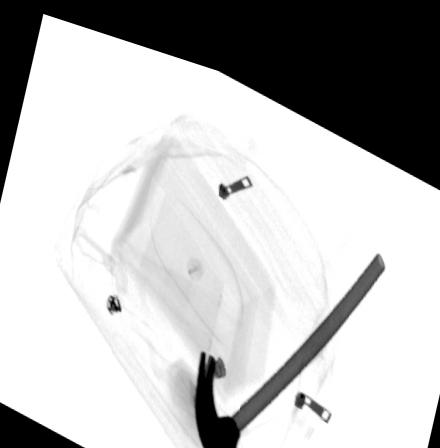Hammer: (192, 224, 388, 448)
